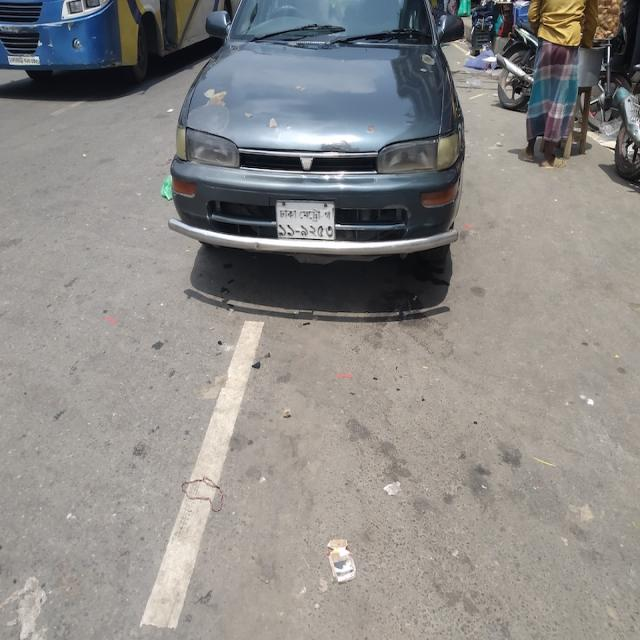numberplate: (275, 199, 335, 241)
